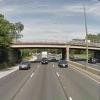Bridge: (6, 32, 97, 55)
